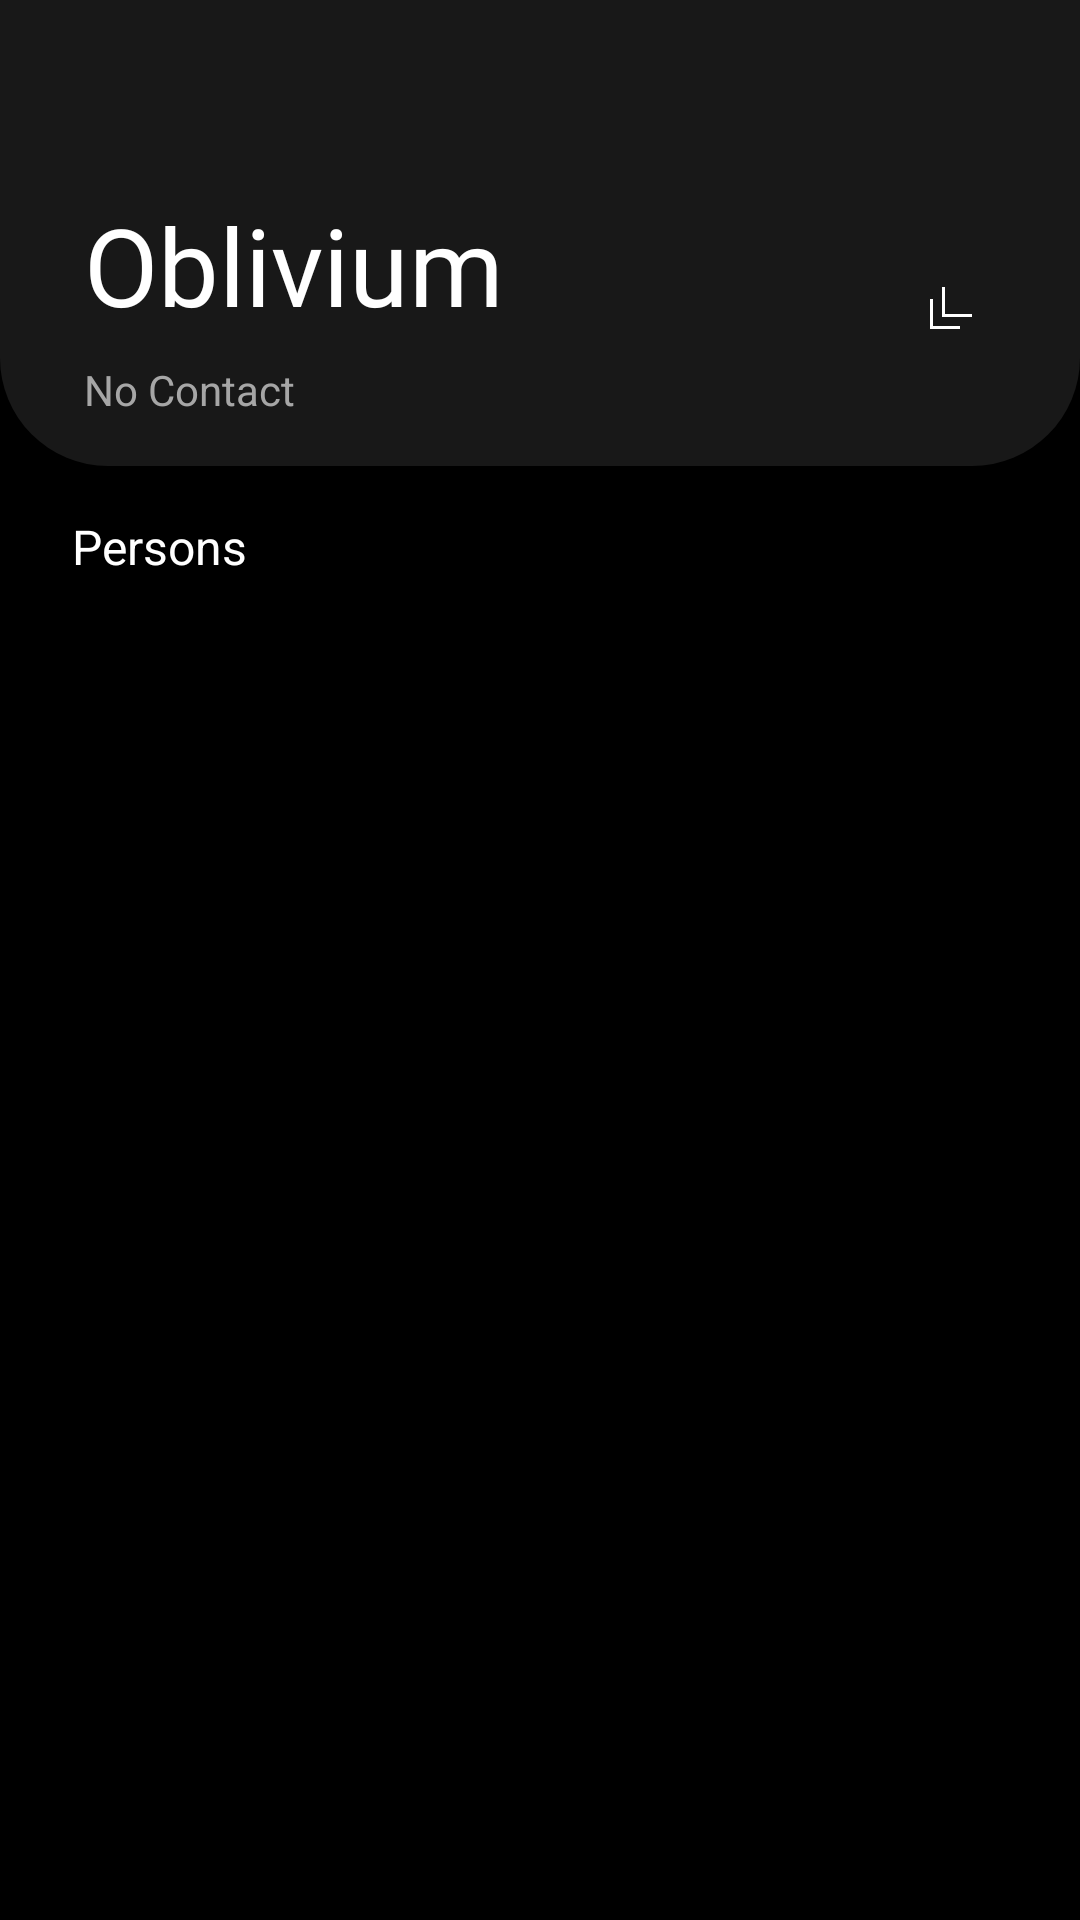

Point at icon controls on the screen. Image size 1080*1920, points as [x,y].
arrow more: [951,308]
